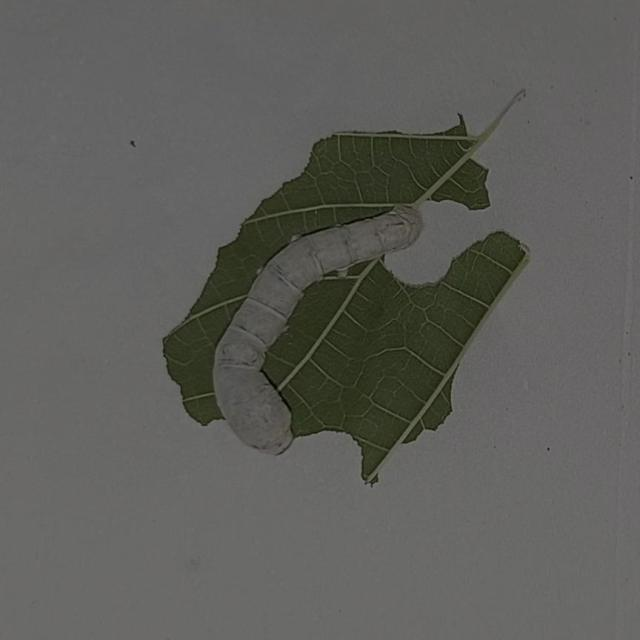Healthy: (185, 170, 501, 472)
